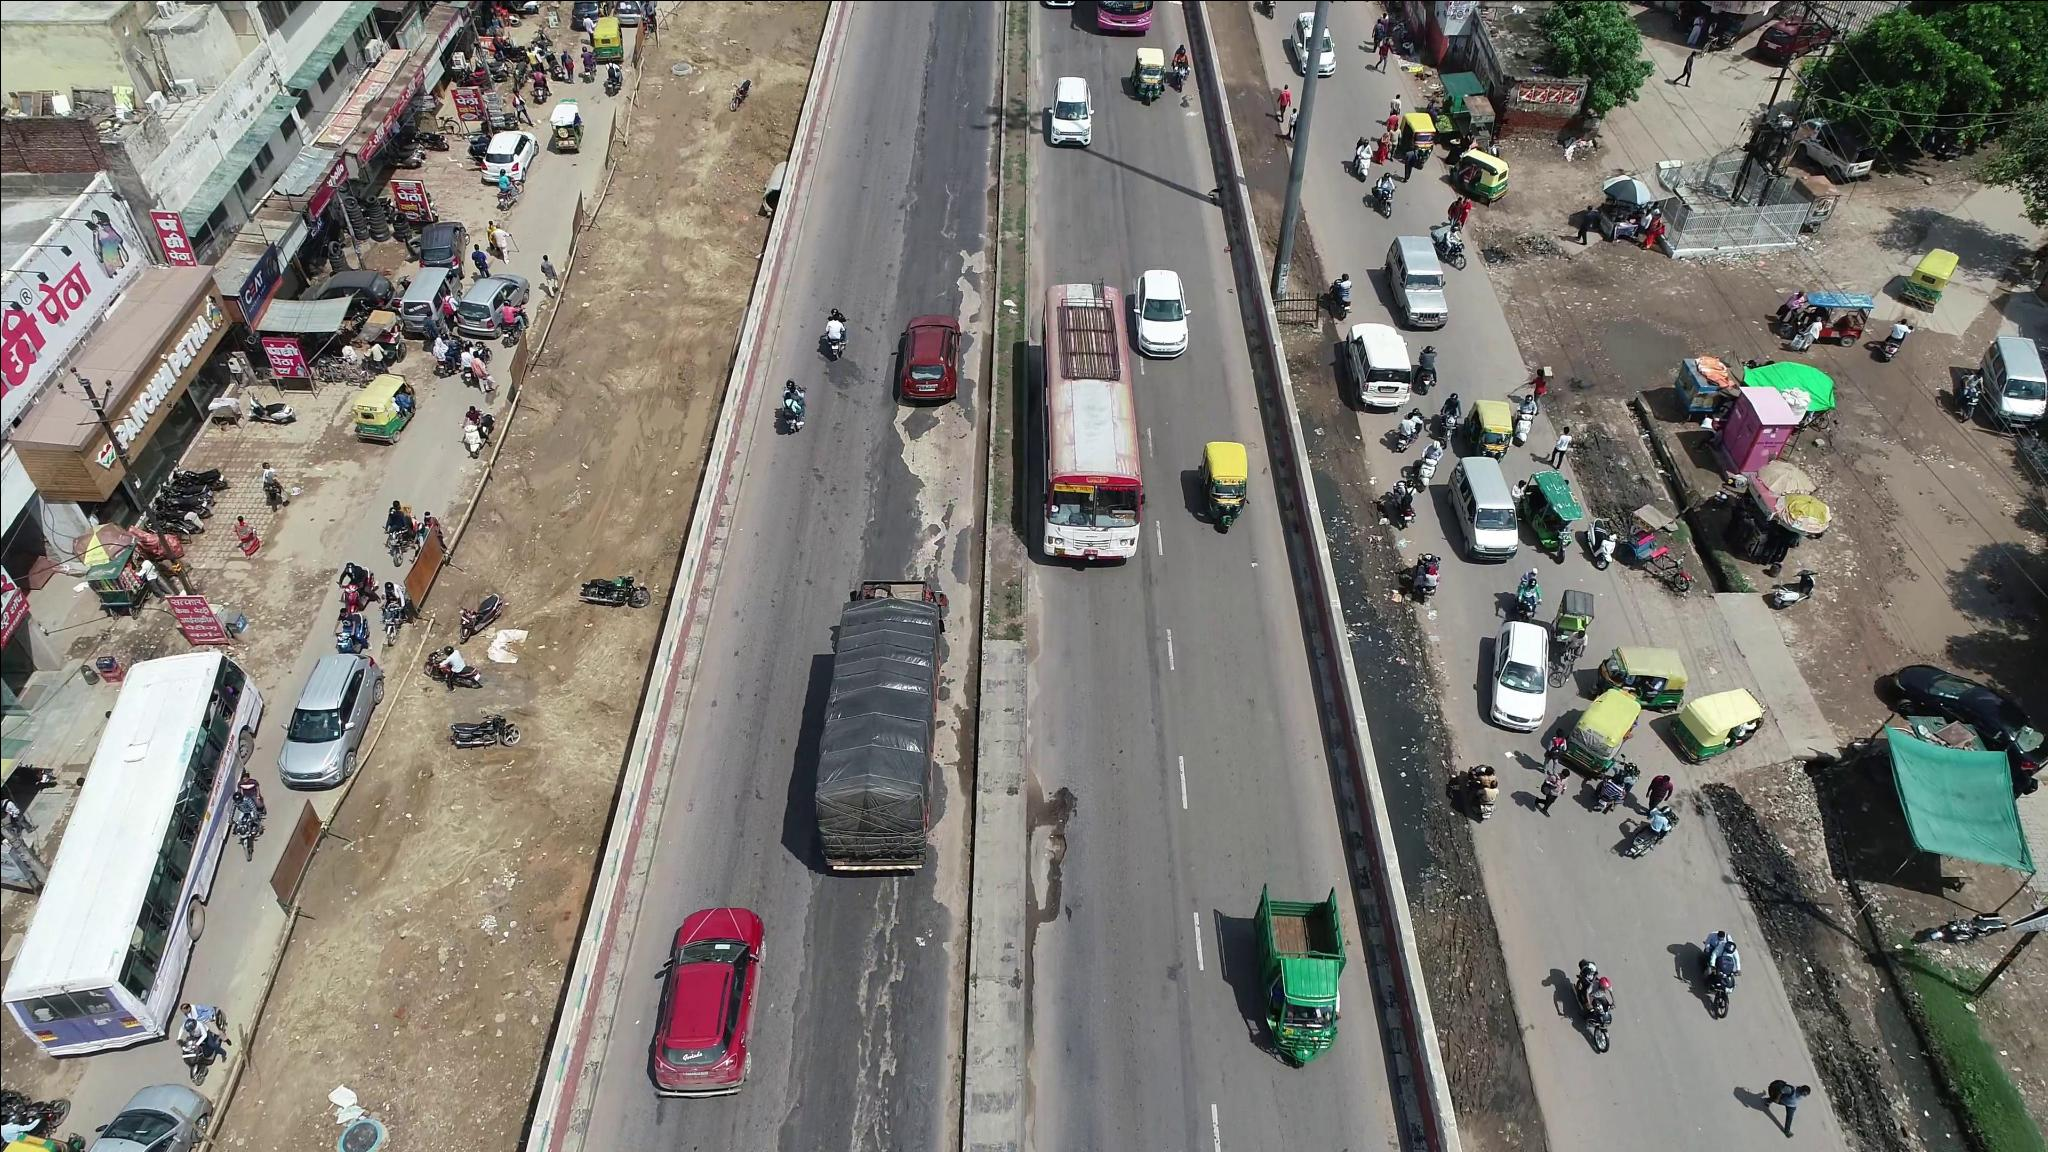Potholes: (1035, 820, 1094, 883)
Ravelling: (838, 890, 910, 1149)
